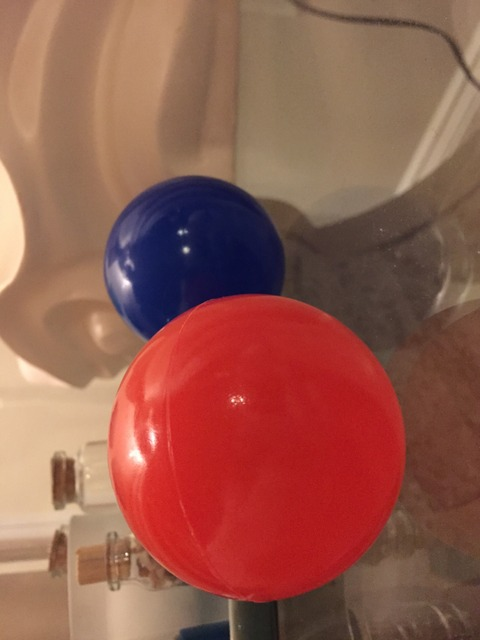Ball: (111, 300, 406, 590)
